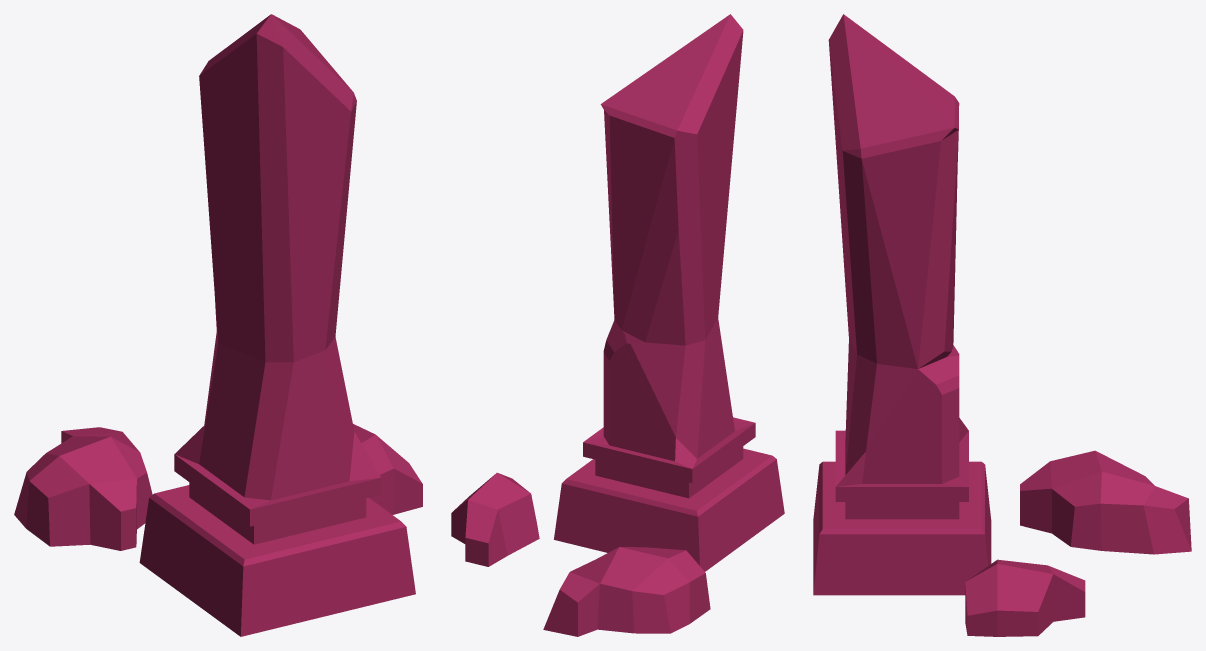
Rendered from simplePillar.fbx.
The picture shows the model from 3 angles, left to right: view 1: azimuth 30°, elevation 25°; view 2: azimuth 150°, elevation 25°; view 3: azimuth 270°, elevation 25°; orthographic projection. The views are drawn at different scales.
Parts seen in each view (by area): view 1: Cube, Cube.001; view 2: Cube, Cube.001; view 3: Cube, Cube.001.
Part boxes in pixels (x1,y1,x2,y2): Cube: (139, 14, 415, 636); Cube.001: (14, 424, 422, 550); Cube: (554, 14, 784, 571); Cube.001: (451, 472, 710, 636); Cube: (813, 14, 991, 595); Cube.001: (965, 450, 1191, 636).
Bounding box in the file's own units: 583 × 1030 × 670.
